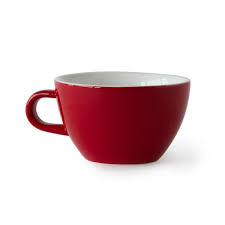cup: (21, 45, 210, 170)
